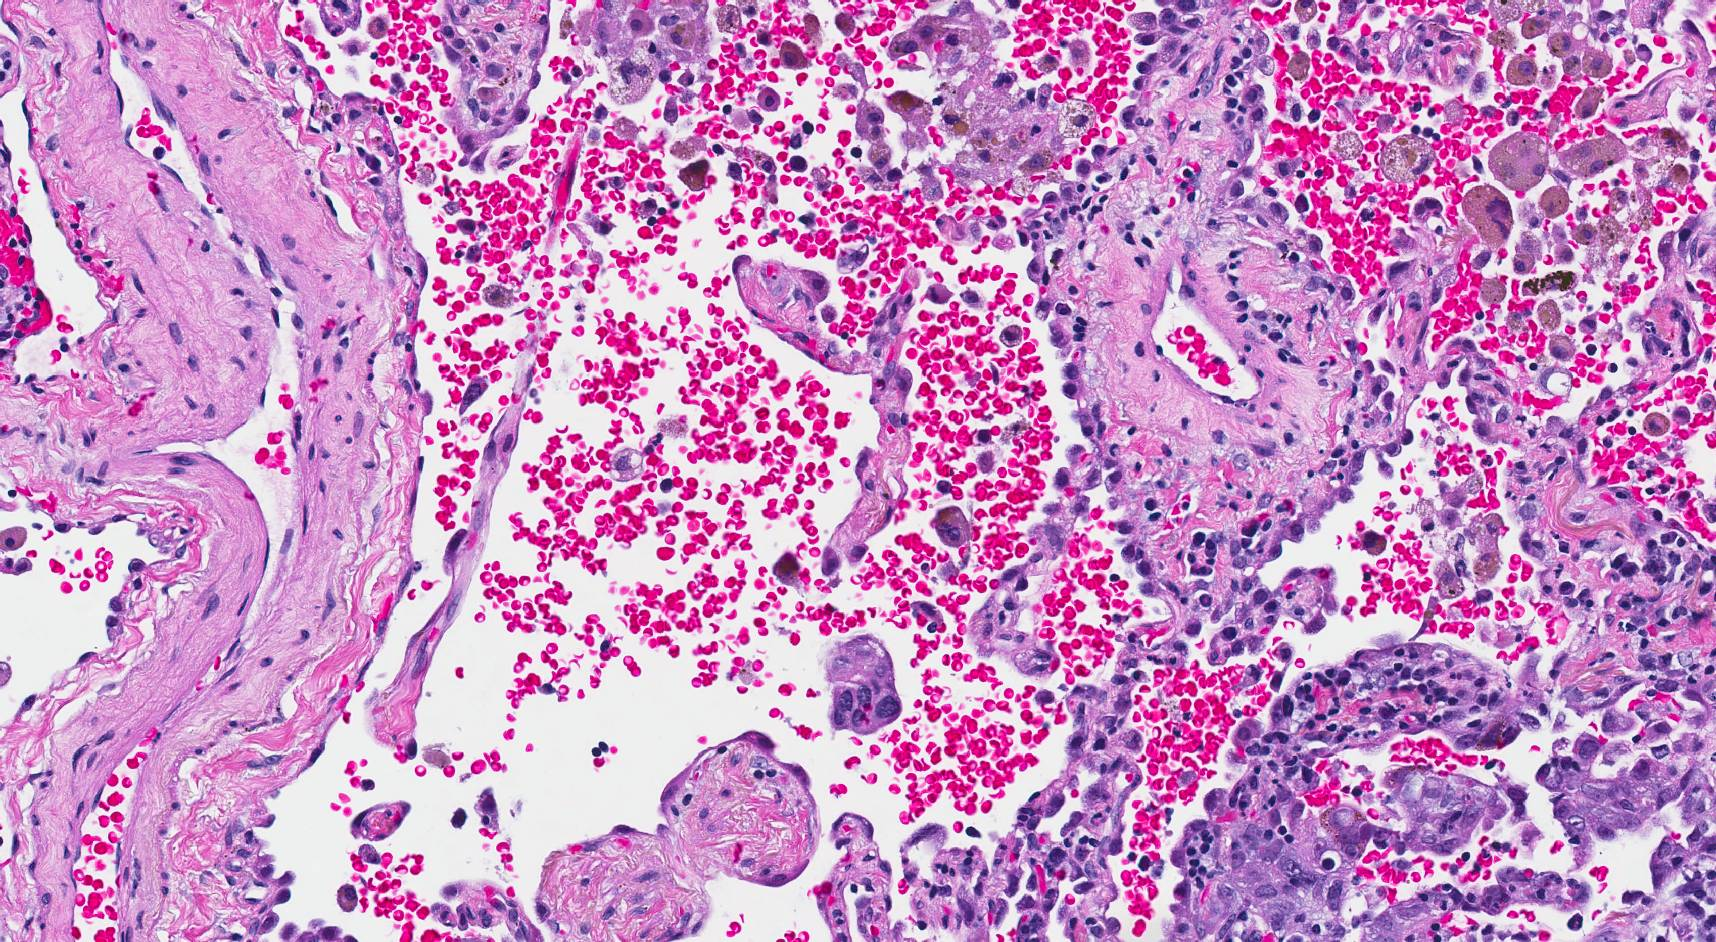stas: (823, 629, 906, 736)
